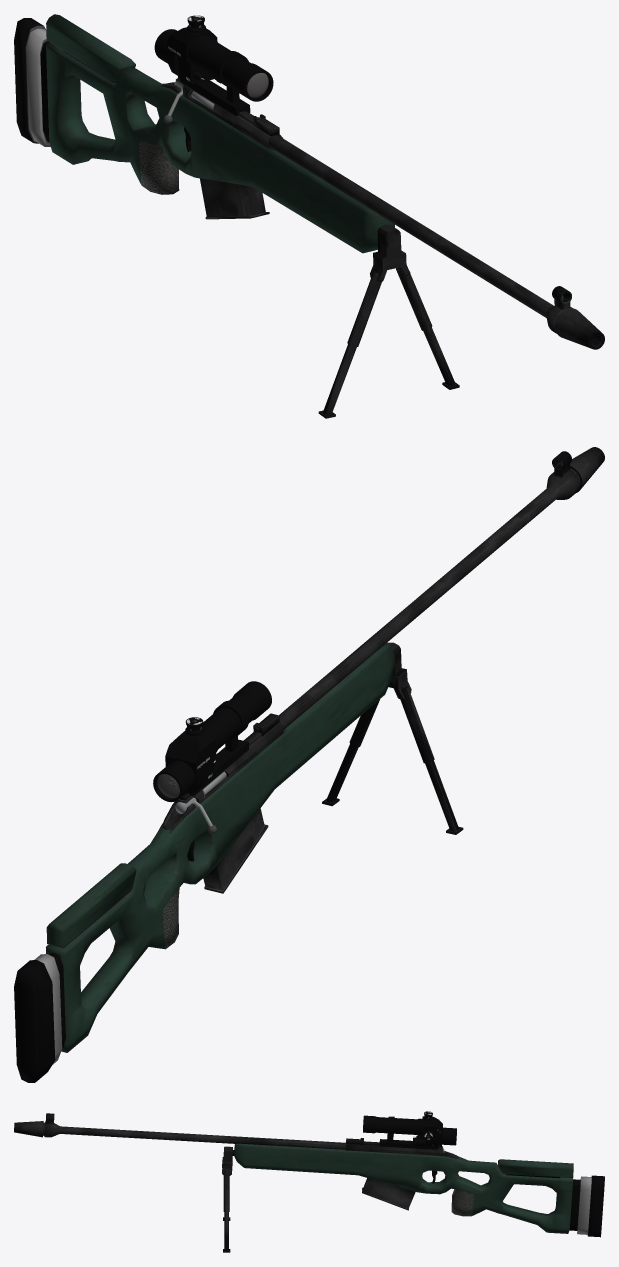
3 renders of one model, top to bottom at view 1: azimuth 30°, elevation 25°; view 2: azimuth 150°, elevation 25°; view 3: azimuth 270°, elevation 25°, orthographic. The views are drawn at different scales.
Visible parts, largest first — view 1: SV98_11, Scope_9, Magazine_5, Bipod Leg Right_1, Bipod Leg Left_0, Bipod_2; view 2: SV98_11, Scope_9, Magazine_5, Bipod Leg Right_1, Bipod Leg Left_0; view 3: SV98_11, Scope_9, Magazine_5, Bipod Leg Left_0, Bipod_2.
Boxes of the visible parts, x1,y1,x2,y2 form: SV98_11: (14, 14, 604, 349); Scope_9: (154, 15, 273, 116); Magazine_5: (200, 178, 269, 219); Bipod Leg Right_1: (318, 270, 381, 418); Bipod Leg Left_0: (396, 265, 459, 389); Bipod_2: (370, 224, 410, 282); SV98_11: (14, 447, 604, 1082); Scope_9: (153, 681, 271, 802); Magazine_5: (203, 808, 268, 893); Bipod Leg Right_1: (400, 686, 463, 834); Bipod Leg Left_0: (322, 699, 379, 806); SV98_11: (14, 1113, 604, 1237); Scope_9: (363, 1111, 456, 1149); Magazine_5: (362, 1178, 415, 1210); Bipod Leg Left_0: (223, 1171, 230, 1252); Bipod_2: (222, 1146, 232, 1175).
Size of the model in its own units: 1.3 by 2.23 by 9.65.
6 materials, 3 textured.
